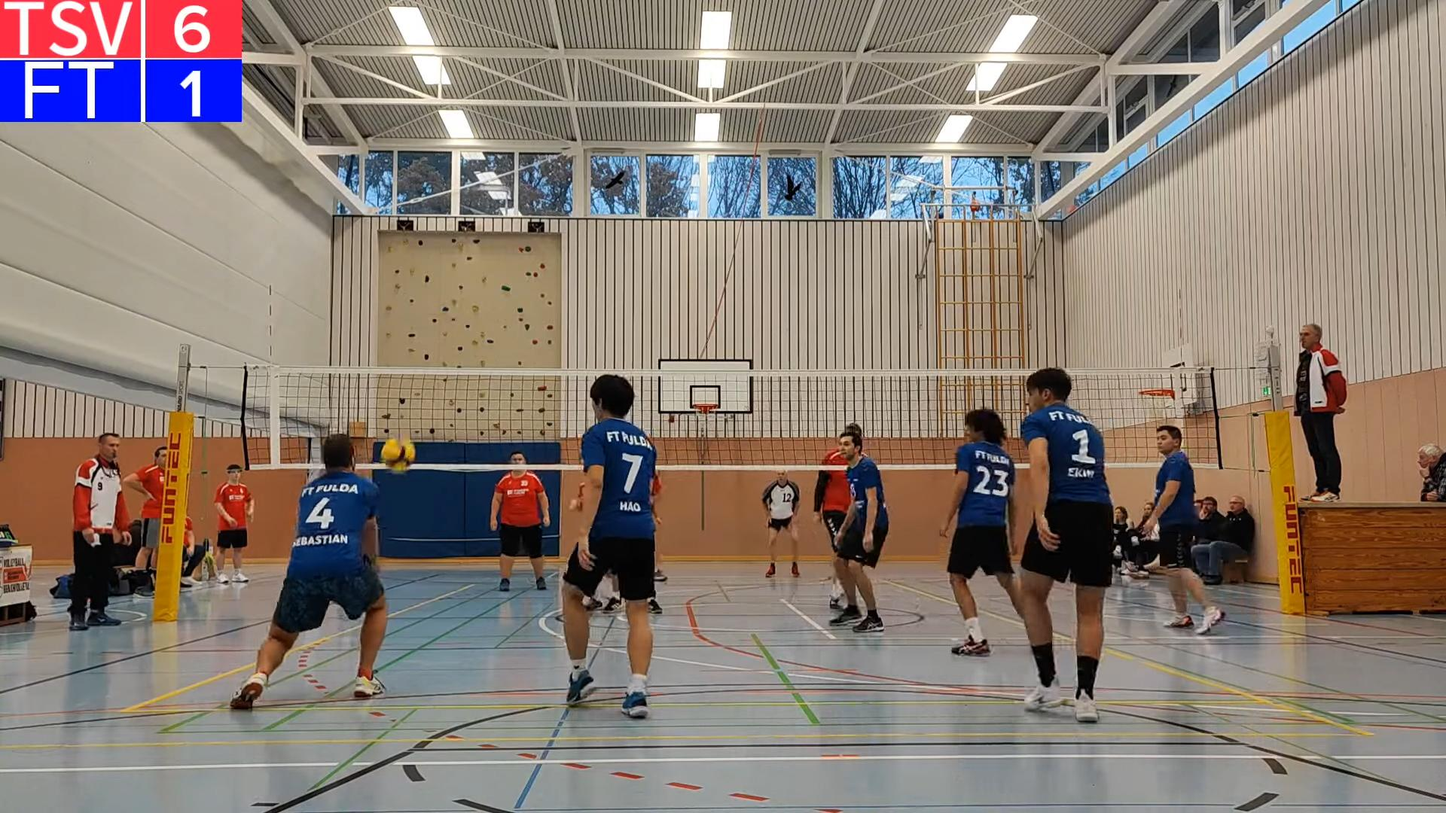Player: (1020, 368, 1112, 722), (563, 374, 655, 717), (940, 410, 1020, 655), (1142, 425, 1225, 634), (830, 428, 888, 632), (490, 451, 549, 591), (762, 470, 800, 577), (813, 446, 850, 553), (584, 574, 621, 613)
Receive: (214, 446, 393, 712)
ball: (383, 439, 416, 469)
